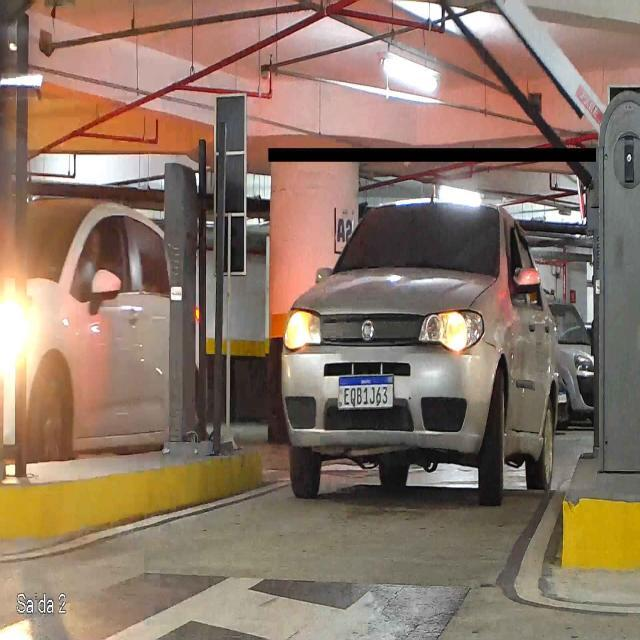mercosul_plate: (337, 374, 395, 412)
